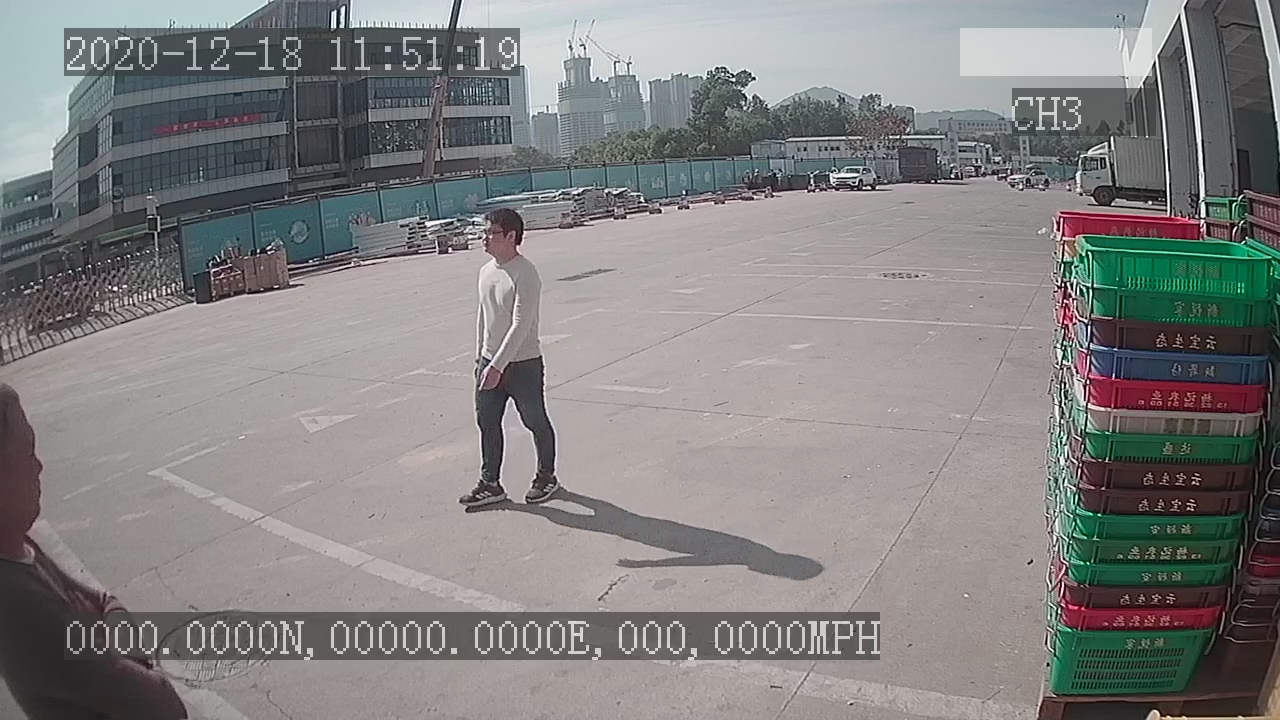person: (454, 206, 561, 511)
